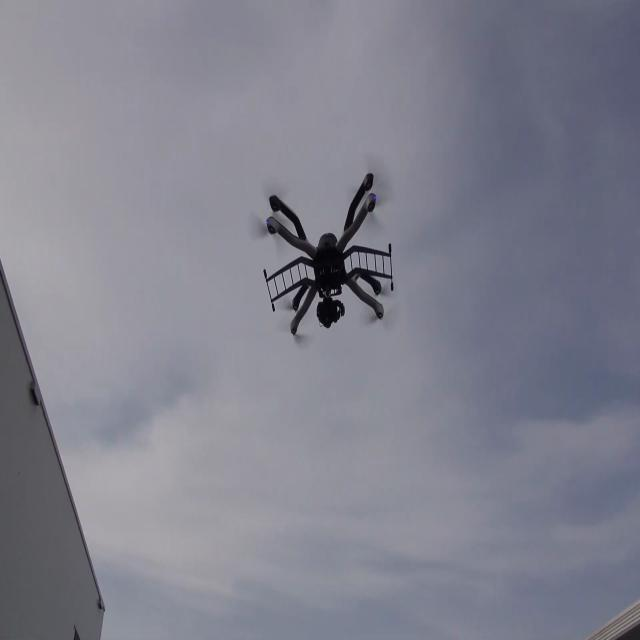drone: (251, 174, 401, 342)
